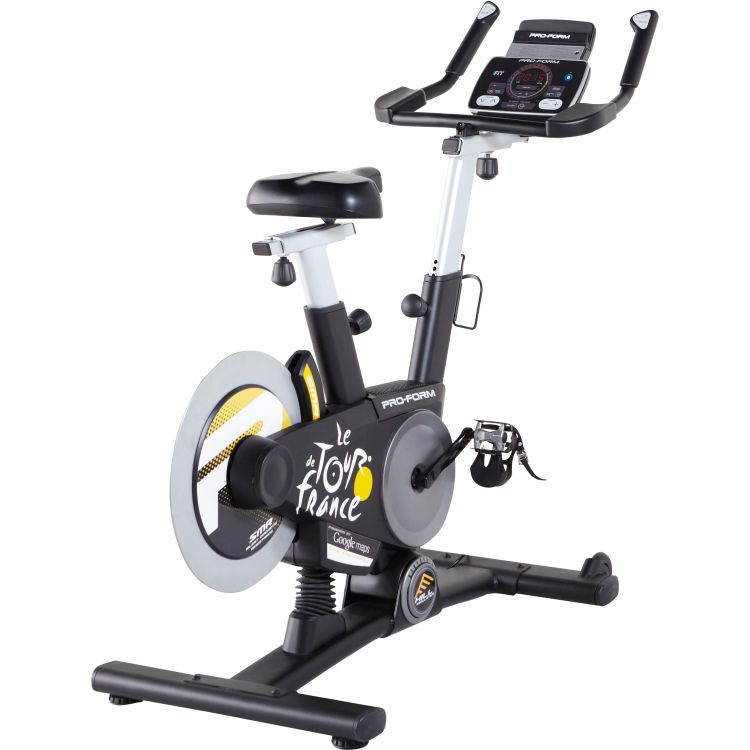gym_bike: (80, 1, 668, 736)
